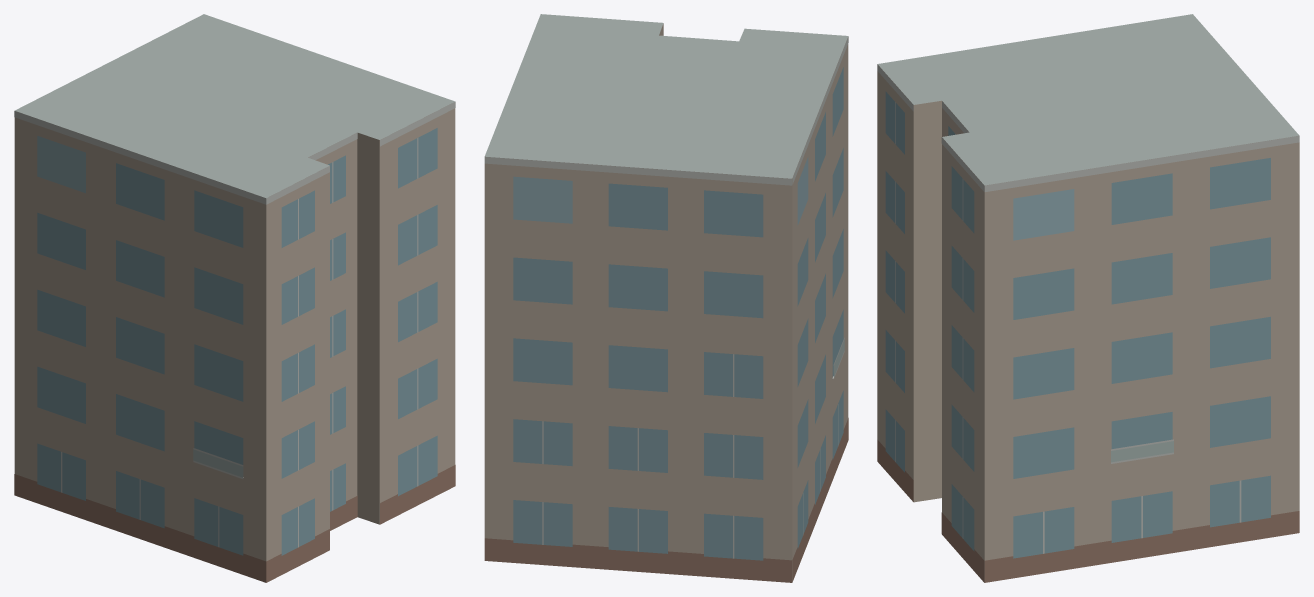
Rendered from survey-upis-32855727.glb.
The picture shows the model from 3 angles, left to right: view 1: azimuth 30°, elevation 25°; view 2: azimuth 150°, elevation 25°; view 3: azimuth 270°, elevation 25°; orthographic projection. The views are drawn at different scales.
Parts seen in each view (by area): view 1: survey-upis-32855727.tmp; view 2: survey-upis-32855727.tmp; view 3: survey-upis-32855727.tmp.
Part boxes in pixels (x1,y1,x2,y2): survey-upis-32855727.tmp: (14,14,455,582); survey-upis-32855727.tmp: (484,14,848,582); survey-upis-32855727.tmp: (877,14,1299,582).
Size of the model in its own units: 13.25 by 14.3 by 13.78.
